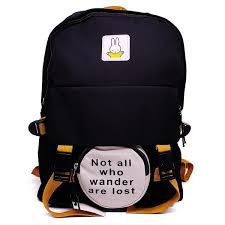bag: (35, 4, 195, 220)
